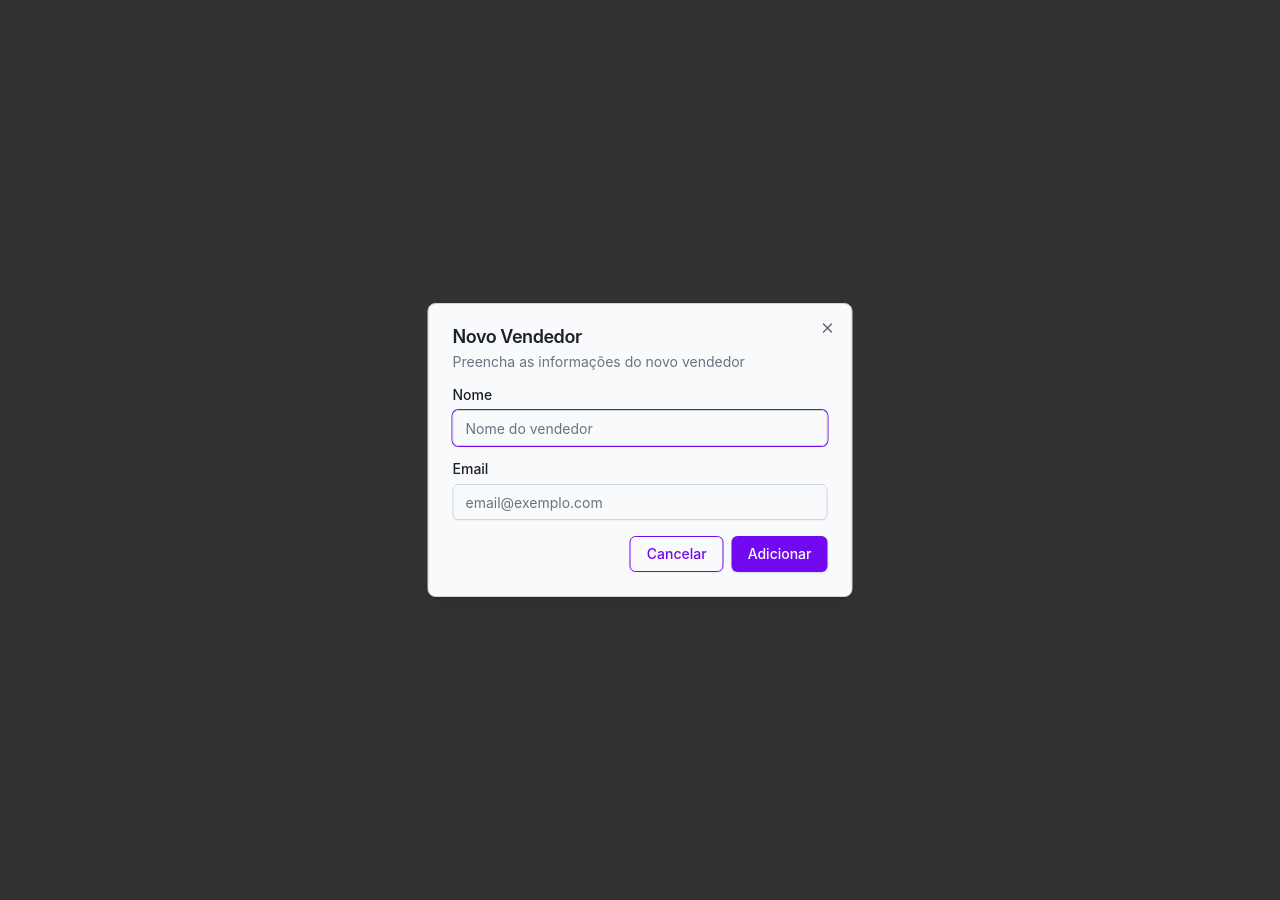
Test: FormularioVendedor › validation › deve exibir erro quando nome está vazio
This screenshot has width=1280, height=900.
# Preencher apenas email
Type "teste@example.com" into the field labelled "Email" at {"x": 640, "y": 502}, box left=452, top=484, right=828, bottom=520
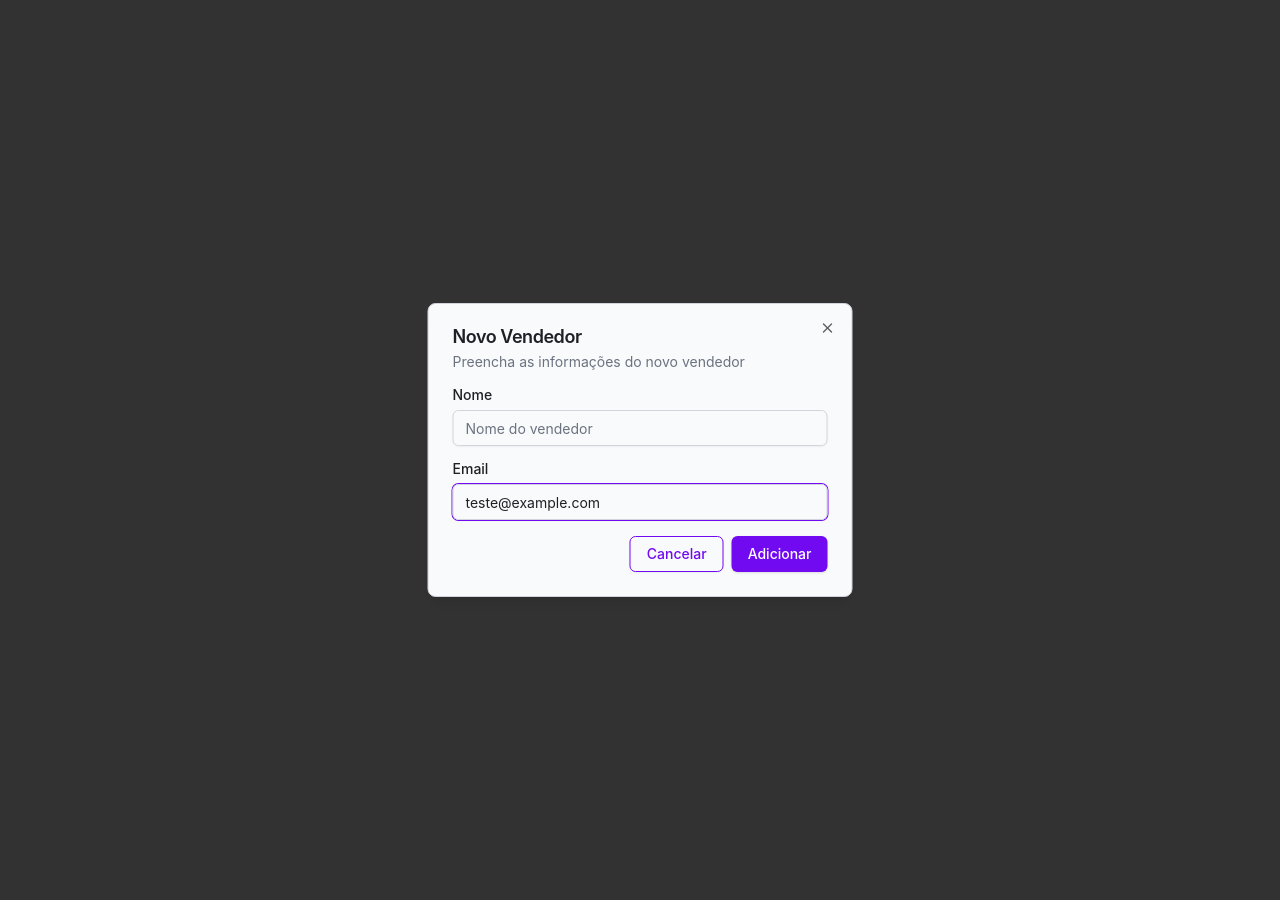
Click the button "Adicionar" at {"x": 780, "y": 554}, box left=732, top=536, right=828, bottom=572
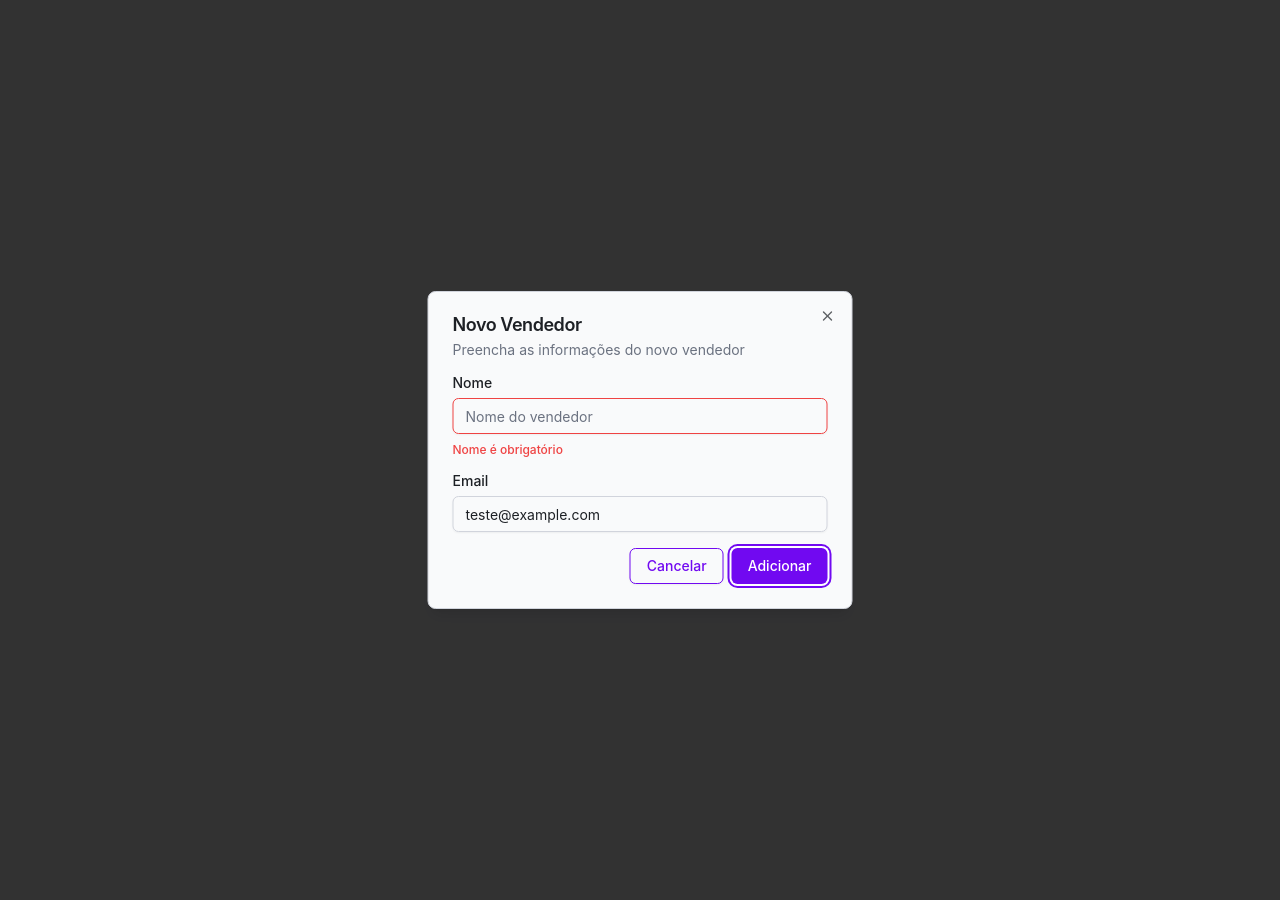
Expected: the text "Nome é obrigatório" is shown, left=452, top=442, right=563, bottom=457
